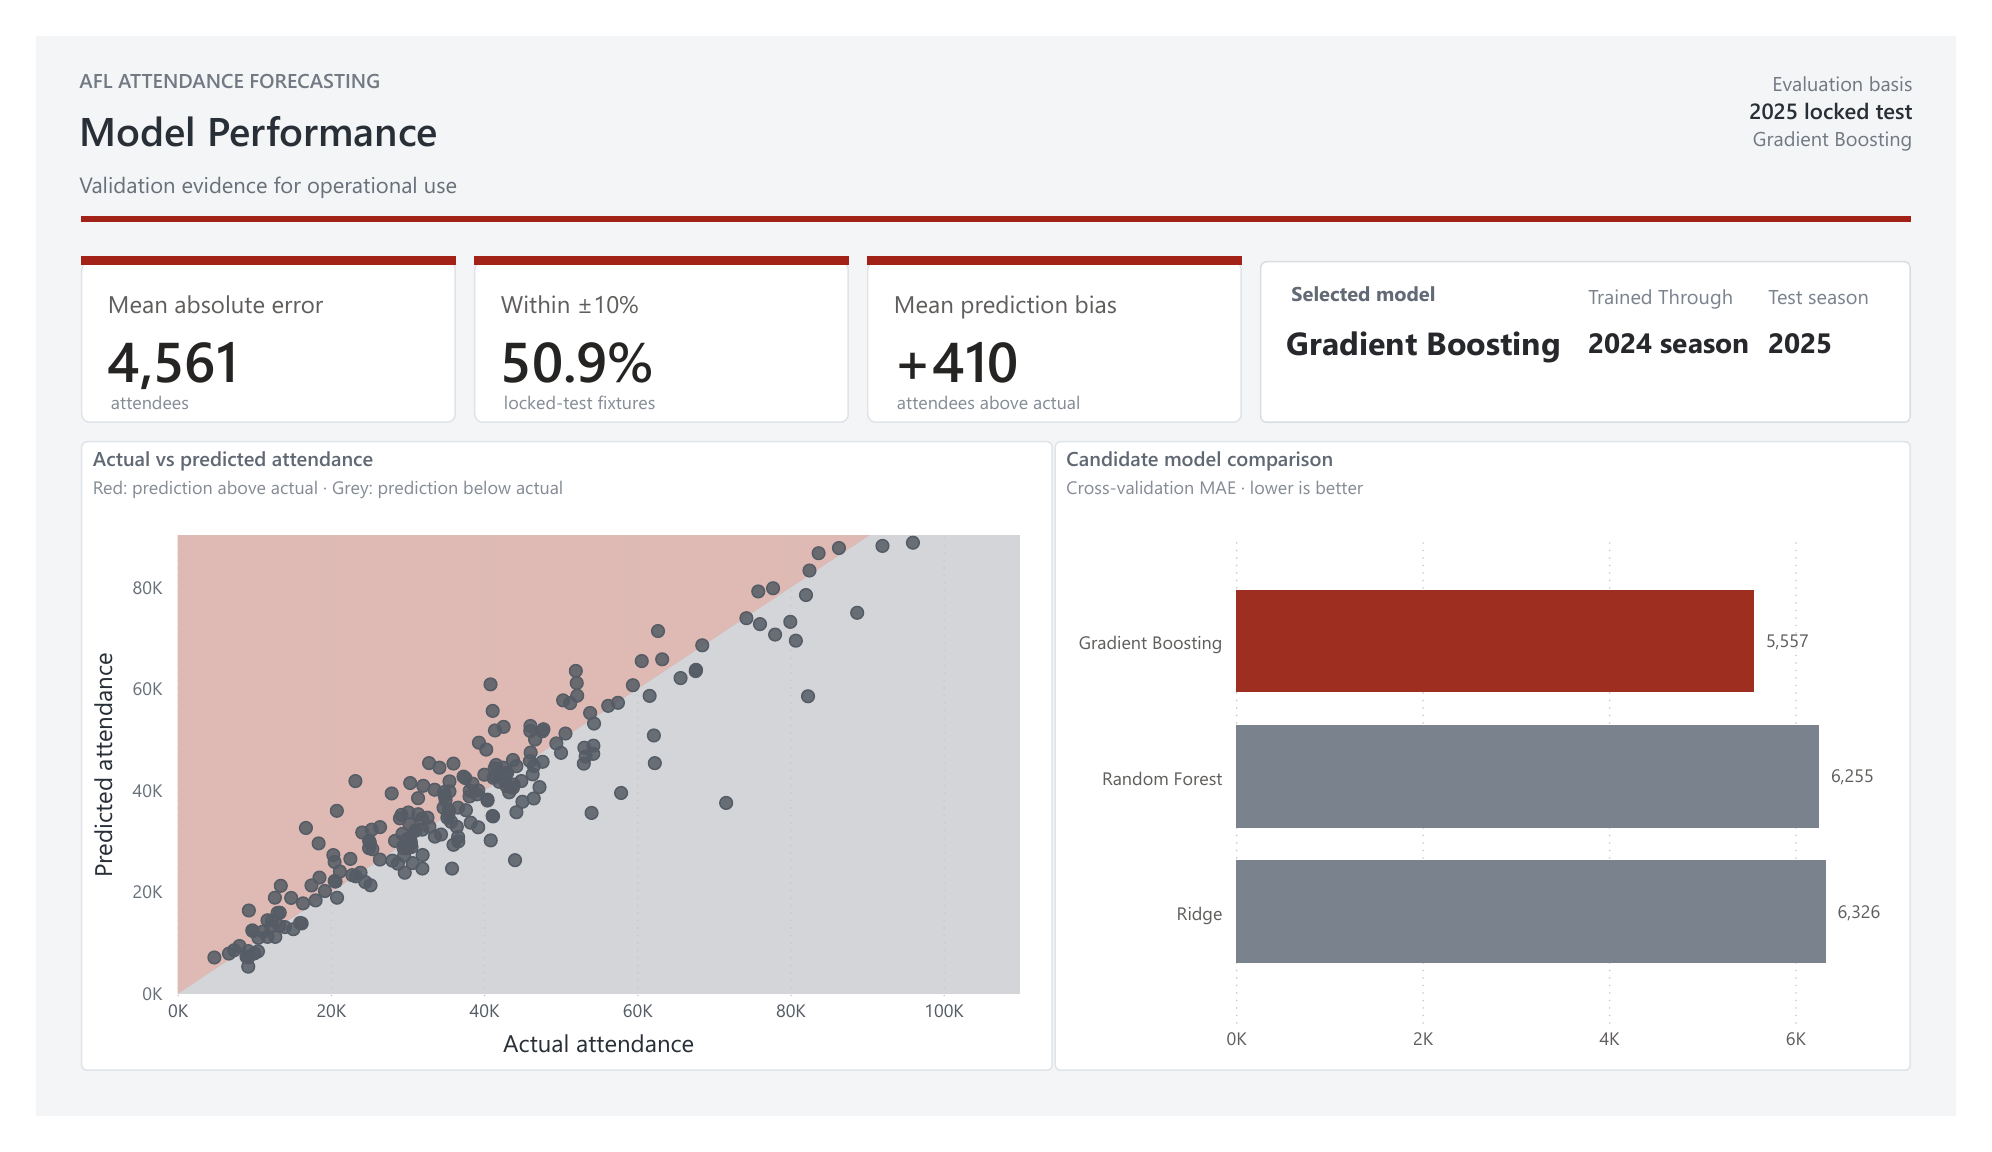

This screenshot's page, from the dashboard's own definition file:
{"tool":"powerbi","page":{"name":"Model Performance","canvas":[1280,720],"ordinal":1},"visuals":[{"type":"textbox","box":[24,16,320,30],"z":0},{"type":"cardVisual","title":"Fixture count","fields":{"Data":["ModelEvaluation.Locked Test MAE"]},"box":[30,150,250,108],"z":0,"group":"g3"},{"type":"cardVisual","title":"Fixture count","fields":{"Data":["ModelEvaluation.Within 10 Percent"]},"box":[292,150,250,108],"z":0,"group":"g1"},{"type":"cardVisual","title":"Fixture count","fields":{"Data":["ModelEvaluation.Locked Test Mean Bias"]},"box":[554,150,250,108],"z":0,"group":"g2"},{"type":"textbox","box":[24,84,620,36],"z":1000},{"type":"textbox","box":[49.5,235,170.8,19.2],"z":1000,"group":"g3"},{"type":"textbox","box":[311.5,235,170.8,19.2],"z":1000,"group":"g1"},{"type":"textbox","box":[573.5,235,170.8,19.2],"z":1000,"group":"g2"},{"type":"textbox","box":[24,40,500,46],"z":2000},{"type":"shape","box":[30,144,250,12],"z":2000,"group":"g3"},{"type":"shape","box":[292,144,250,12],"z":2000,"group":"g1"},{"type":"shape","box":[554,144,250,12],"z":2000,"group":"g2"},{"type":"textbox","box":[970,18,286,78],"z":3000},{"type":"shape","box":[30,116,1220,12],"z":4000},{"type":"group","id":"g1","title":"KPI - Average Forecast","box":[292,144,250,114],"z":5000},{"type":"group","id":"g2","title":"KPI - High-Demand Fixtures","box":[554,144,249.3,113.9],"z":6000},{"type":"scatterChart","title":"Actual vs predicted attendance","fields":{"X":["Sum(LockedTestPredictions.actual_attendance)"],"Y":["Sum(LockedTestPredictions.predicted_attendance)"],"Category":["LockedTestPredictions.match_id"]},"box":[30,270,648,420],"z":7000},{"type":"clusteredBarChart","title":"Candidate model comparison","fields":{"Category":["CandidateModelComparison.Model Display"],"Y":["Sum(CandidateModelComparison.best_mean_cv_mae)"]},"box":[678.7,270.3,571.3,419.9],"z":8000},{"type":"group","id":"g3","title":"KPI - Average Forecast","box":[30,144,250,114],"z":9000},{"type":"shape","box":[816,150,434,108],"z":10000},{"type":"textbox","box":[832,158,140,28],"z":11000},{"type":"textbox","box":[829.5,185.2,201,39.4],"z":12000},{"type":"textbox","box":[1030,160,120,32],"z":13000},{"type":"textbox","box":[1030,187,130,38],"z":14000},{"type":"textbox","box":[1150,160,90,32],"z":15000},{"type":"textbox","box":[1149.6,187.2,80.8,37.4],"z":16000}]}

Visuals, with their boxes in screenshot pixels (x1, y1, x2, y2), scaled from the page's 1280x720 canvas onto the 1992x1152 screenshot:
textbox: box=[37, 26, 535, 74]
"Fixture count" cardVisual: box=[47, 240, 436, 413]
"Fixture count" cardVisual: box=[454, 240, 843, 413]
"Fixture count" cardVisual: box=[862, 240, 1251, 413]
textbox: box=[37, 134, 1002, 192]
textbox: box=[77, 376, 343, 407]
textbox: box=[485, 376, 751, 407]
textbox: box=[893, 376, 1158, 407]
textbox: box=[37, 64, 815, 138]
shape: box=[47, 230, 436, 250]
shape: box=[454, 230, 843, 250]
shape: box=[862, 230, 1251, 250]
textbox: box=[1510, 29, 1955, 154]
shape: box=[47, 186, 1945, 205]
"KPI - Average Forecast" group: box=[454, 230, 843, 413]
"KPI - High-Demand Fixtures" group: box=[862, 230, 1250, 413]
"Actual vs predicted attendance" scatterChart: box=[47, 432, 1055, 1104]
"Candidate model comparison" clusteredBarChart: box=[1056, 432, 1945, 1104]
"KPI - Average Forecast" group: box=[47, 230, 436, 413]
shape: box=[1270, 240, 1945, 413]
textbox: box=[1295, 253, 1513, 298]
textbox: box=[1291, 296, 1604, 359]
textbox: box=[1603, 256, 1790, 307]
textbox: box=[1603, 299, 1805, 360]
textbox: box=[1790, 256, 1930, 307]
textbox: box=[1789, 300, 1915, 359]
